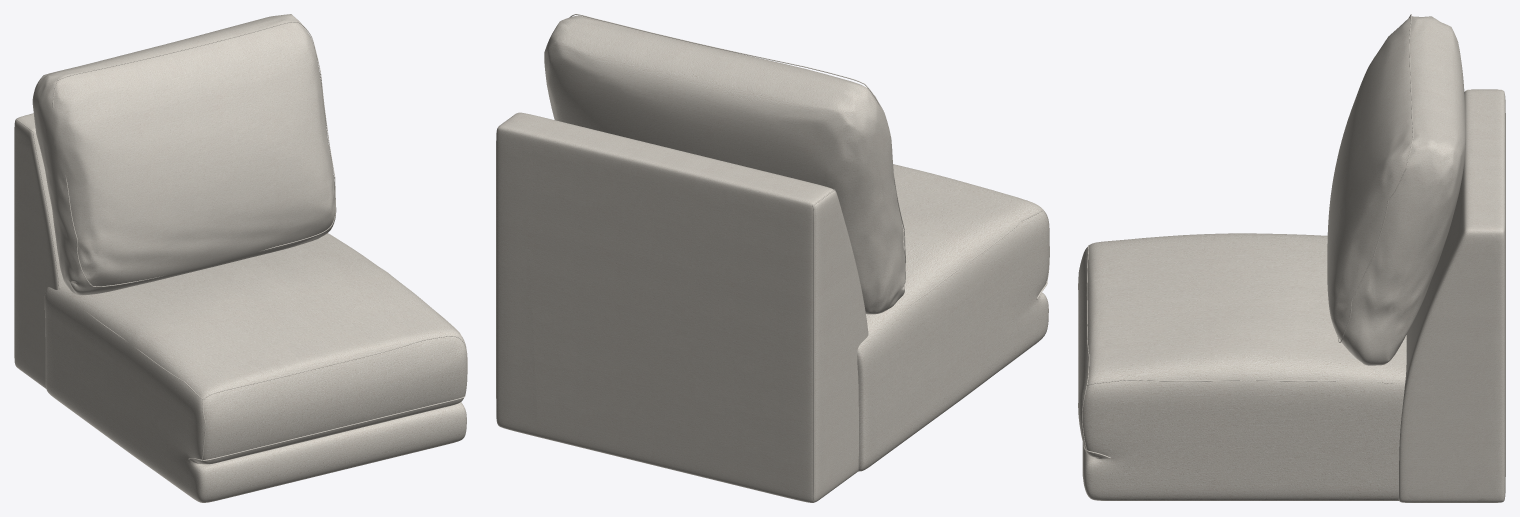
Rendered from sea.glb.
3 views of the same model, side by side, from view 1: azimuth 30°, elevation 25°; view 2: azimuth 150°, elevation 25°; view 3: azimuth 270°, elevation 25° (orthographic). The views are drawn at different scales.
Parts seen in each view (by area): view 1: D=~ 0,00 m; view 2: D=~ 0,00 m; view 3: D=~ 0,00 m.
Part boxes in pixels (<box>): D=~ 0,00 m: <box>14,14,467,502</box>; D=~ 0,00 m: <box>496,14,1049,502</box>; D=~ 0,00 m: <box>1078,14,1505,502</box>.
Bounding box in the file's own units: 0.8478 × 0.9311 × 1.03.
Materials: 2 (1 with a texture image).
